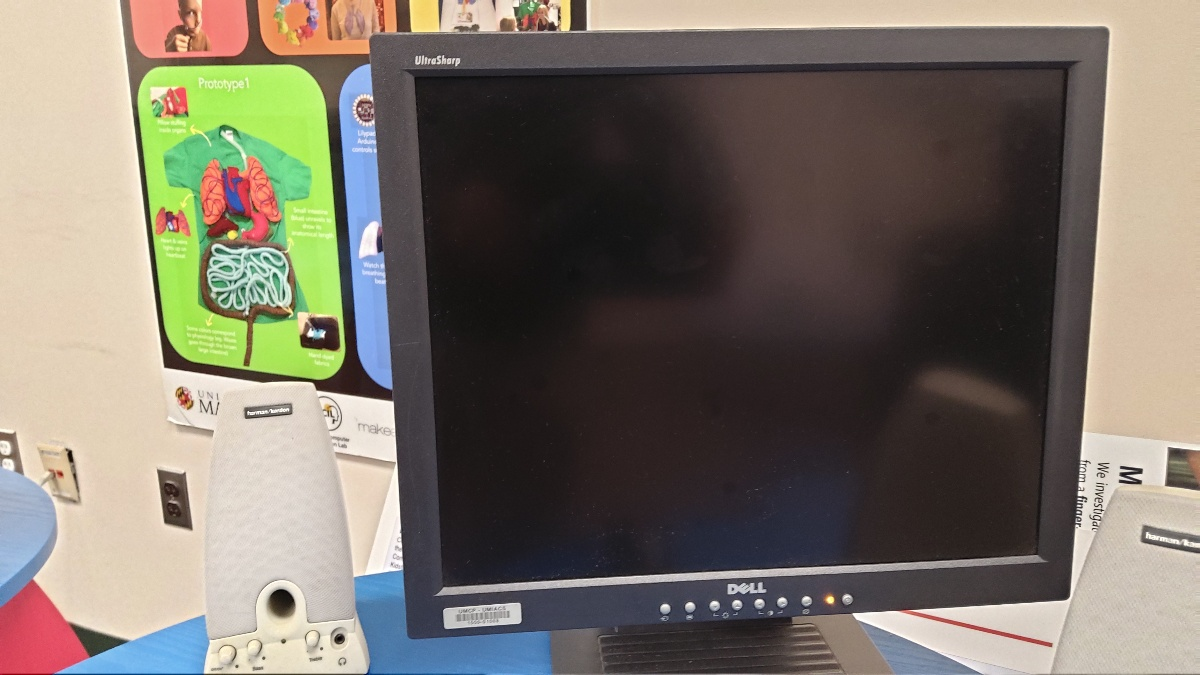monitor: (365, 18, 1118, 647)
